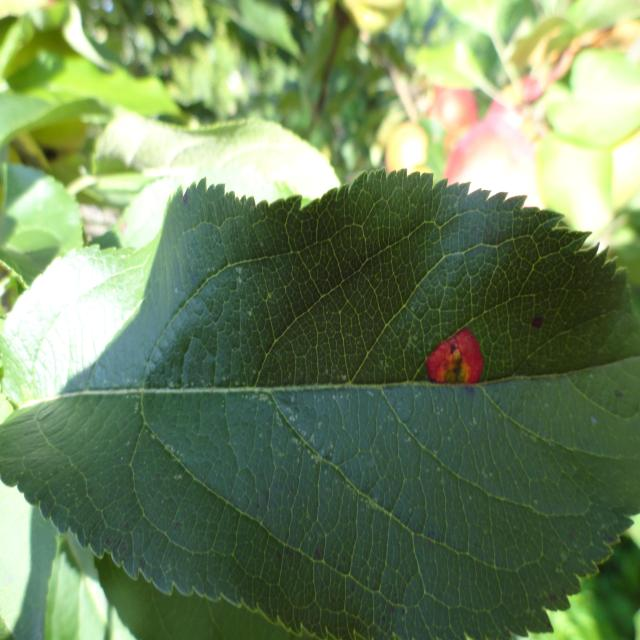rust: (0, 167, 638, 640)
